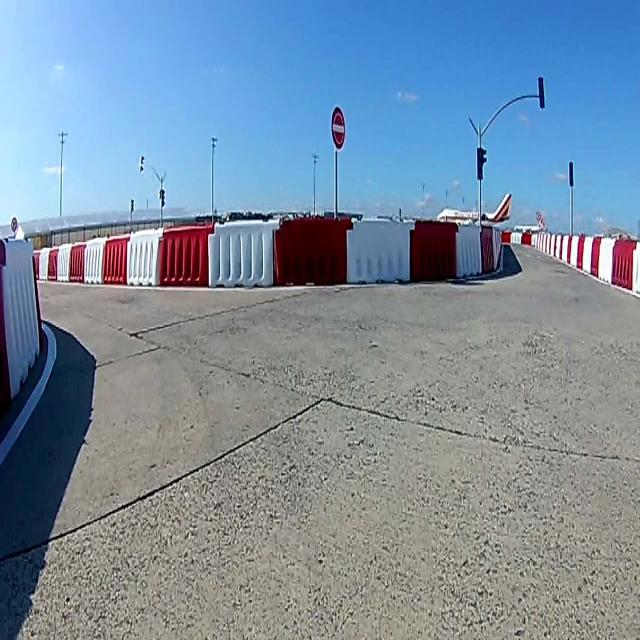girisyok: (330, 103, 347, 149)
